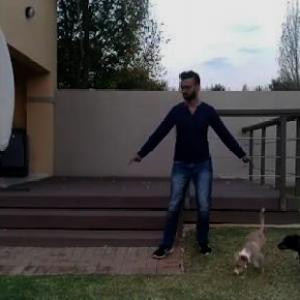land: (108, 84, 254, 249)
